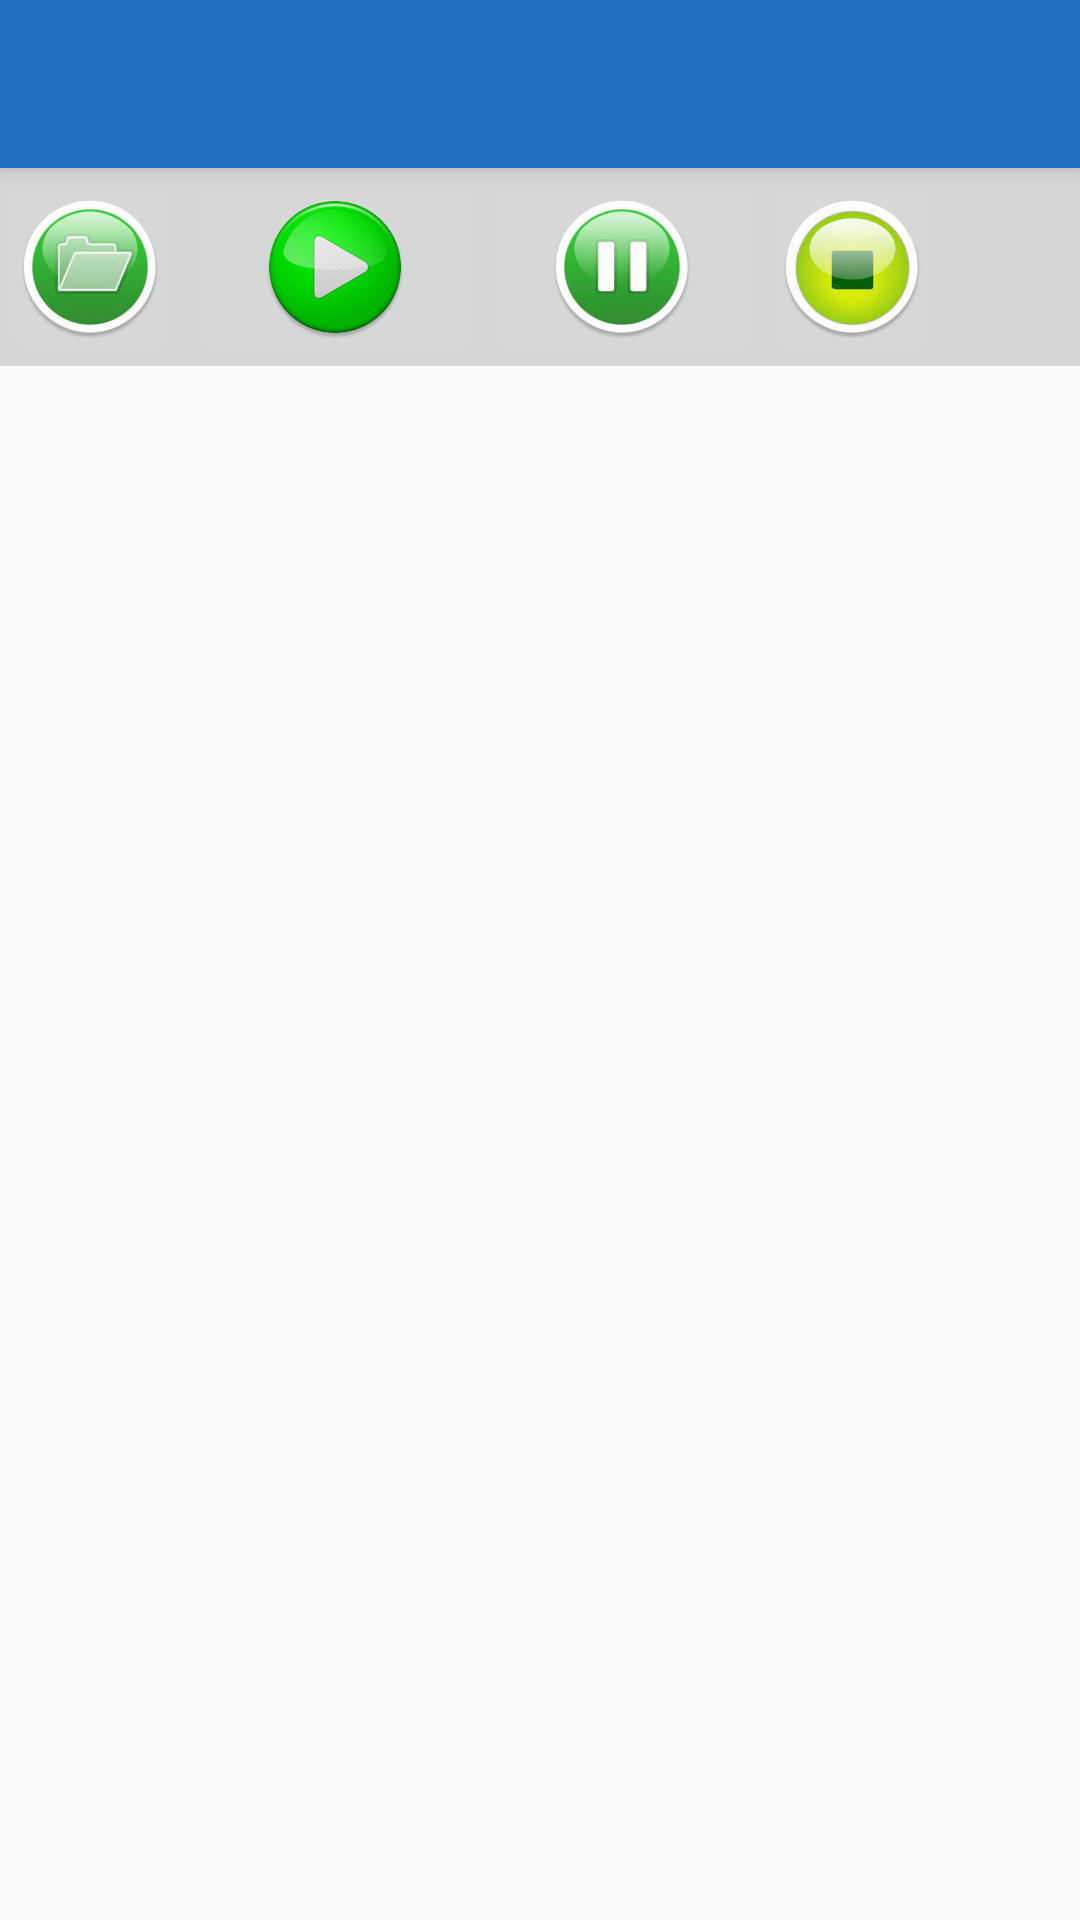

Named icons in this screenshot (1080px x 1920px) and their bounding boxes, Rect(x1, y1, x2, y2):
openplan: Rect(24, 201, 156, 336)
pauseplan: Rect(556, 201, 688, 336)
runplan: Rect(269, 201, 401, 336)
stopplan: Rect(786, 201, 918, 336)
